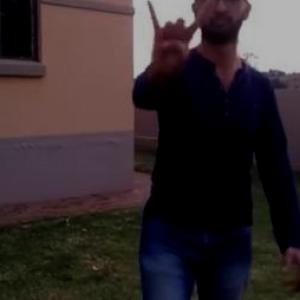takeoff-hand: (139, 0, 220, 86)
